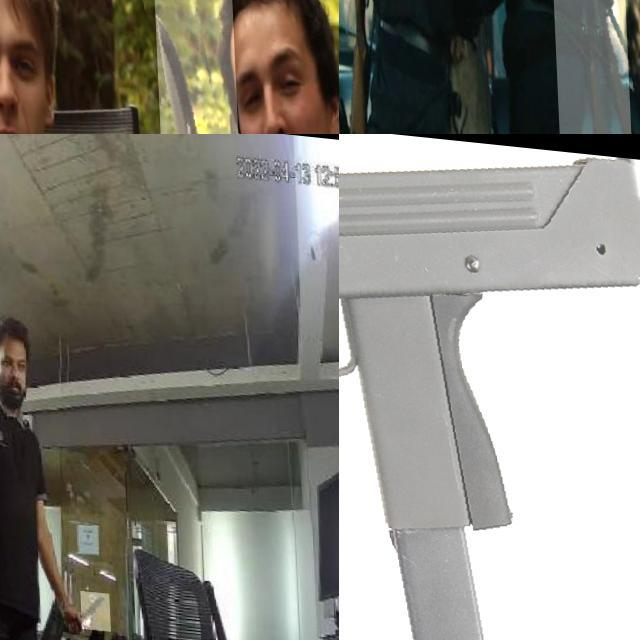-: (153, 0, 244, 134), (76, 584, 106, 624)
gun-knife-thesis - v11 Yolov5 augmented: (339, 134, 640, 640), (538, 0, 627, 134)
